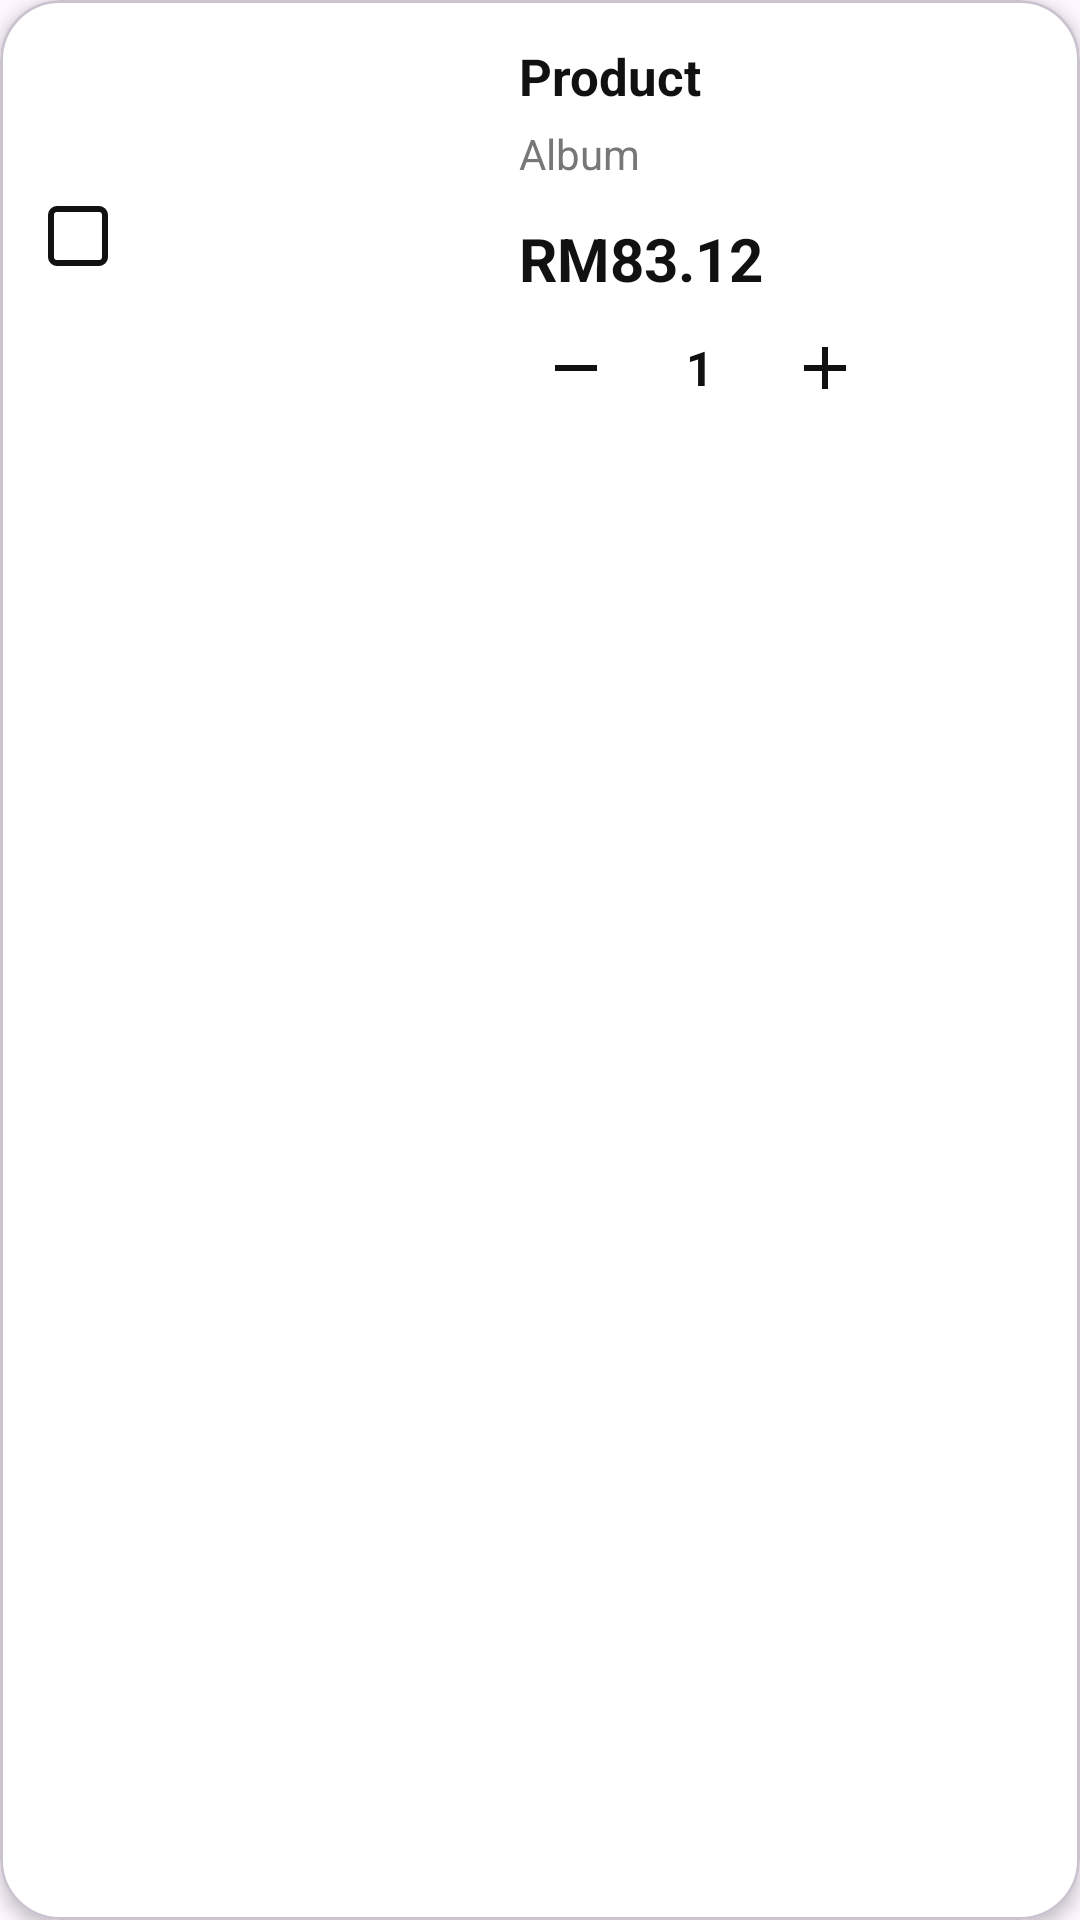

Icon click points for this 1080*1920 phone screenshot, format point (x, y):
plus: point (825, 368)
